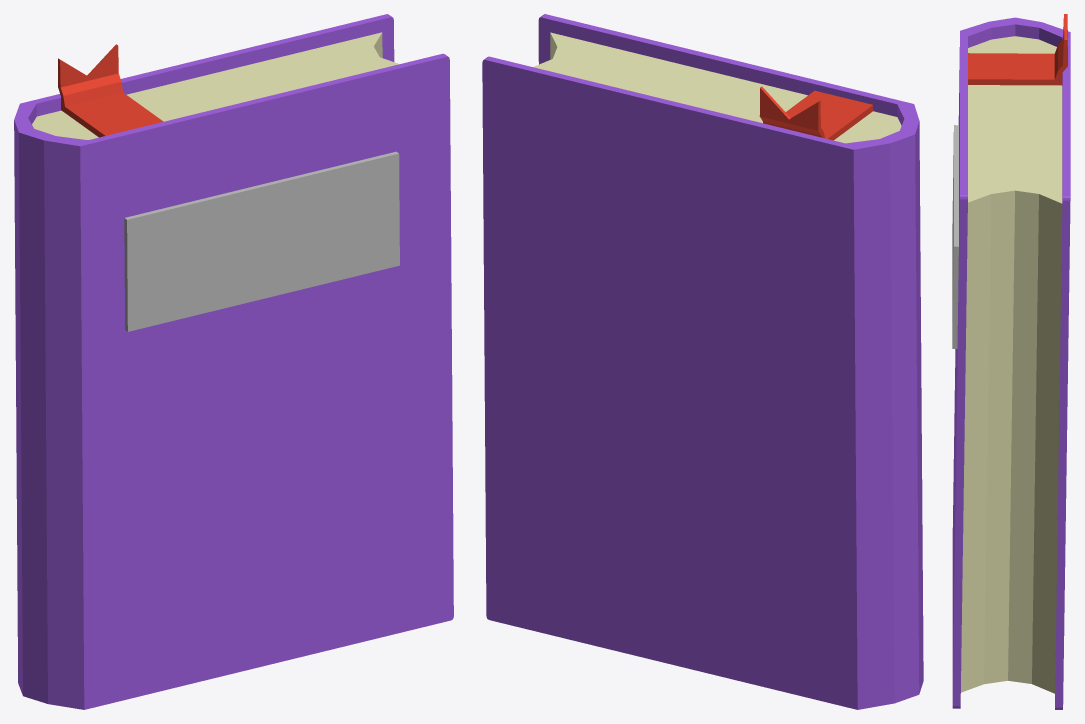
File: Book_02.fbx
The picture shows the model from 3 angles, left to right: view 1: azimuth 30°, elevation 25°; view 2: azimuth 150°, elevation 25°; view 3: azimuth 270°, elevation 25°; orthographic projection. The views are drawn at different scales.
Visible parts, largest first — view 1: book_02; view 2: book_02; view 3: book_02.
Boxes of the visible parts, box(x1,y1,x2,y2) form: book_02: box(14, 14, 453, 709); book_02: box(482, 14, 923, 709); book_02: box(952, 14, 1070, 709).
Bounding box in the file's own units: 22.44 × 32.01 × 6.25.
